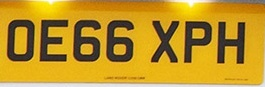character: (38, 16, 69, 62), (216, 19, 246, 64), (183, 18, 212, 63), (105, 17, 133, 62), (6, 18, 34, 62), (150, 18, 178, 62), (72, 19, 100, 61)
